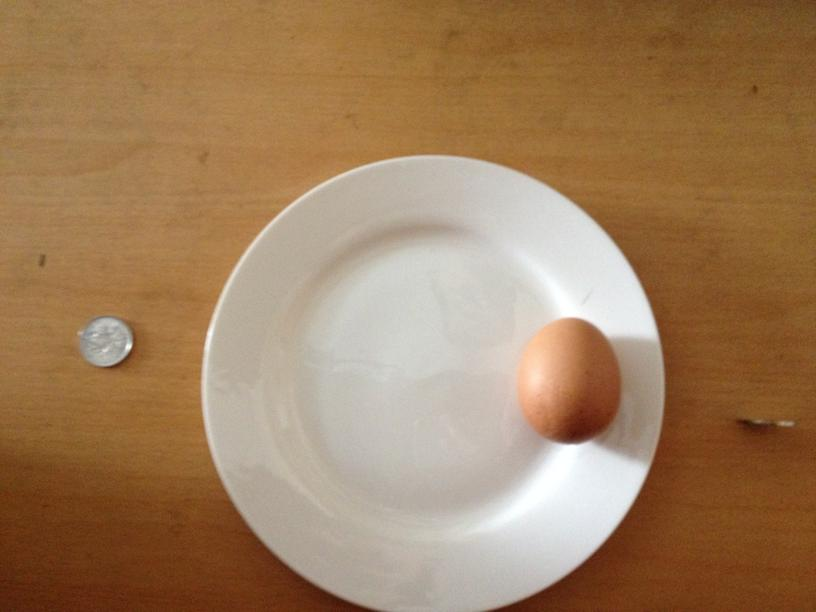coin: (76, 314, 134, 366)
egg: (517, 312, 621, 445)
